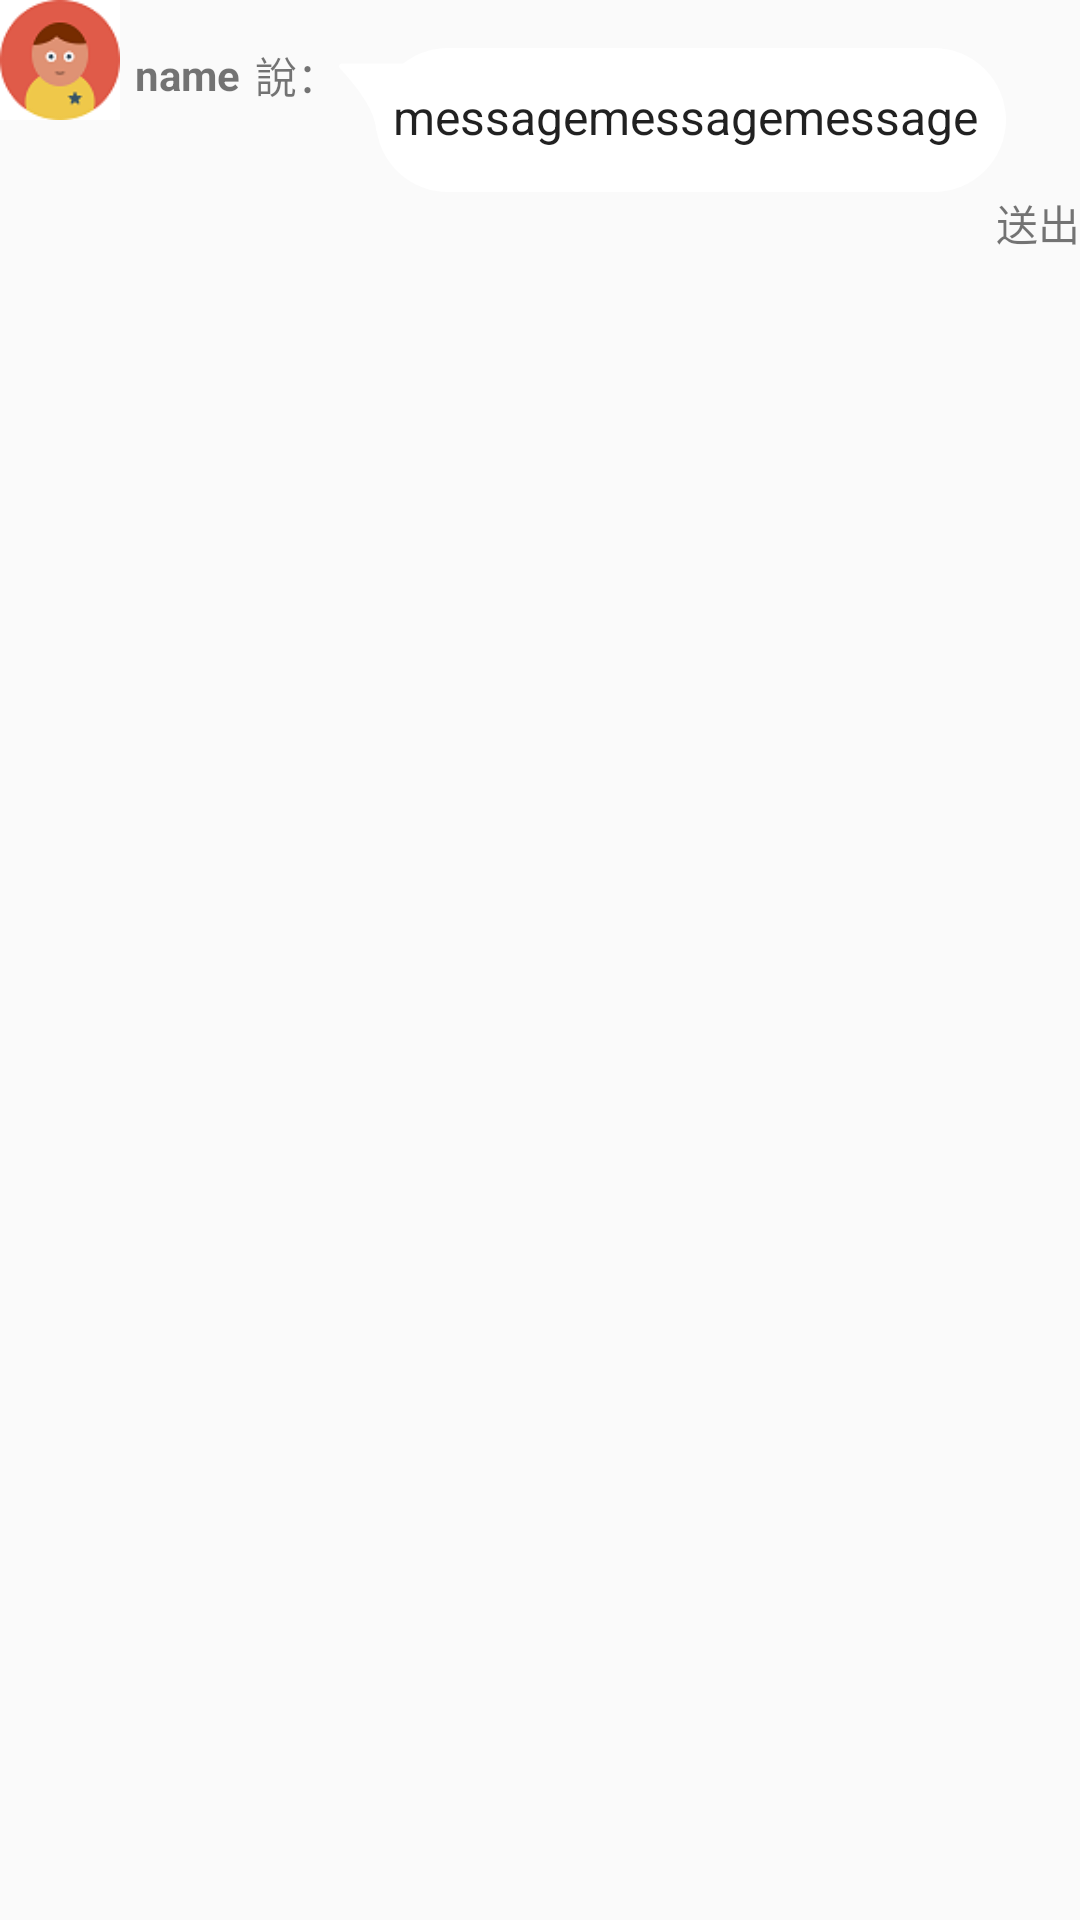

Where icons sit on this 1080 x 1920 app screen, as rect(x1, y1, x2, y2):
iconfinder man: rect(0, 0, 120, 120)
